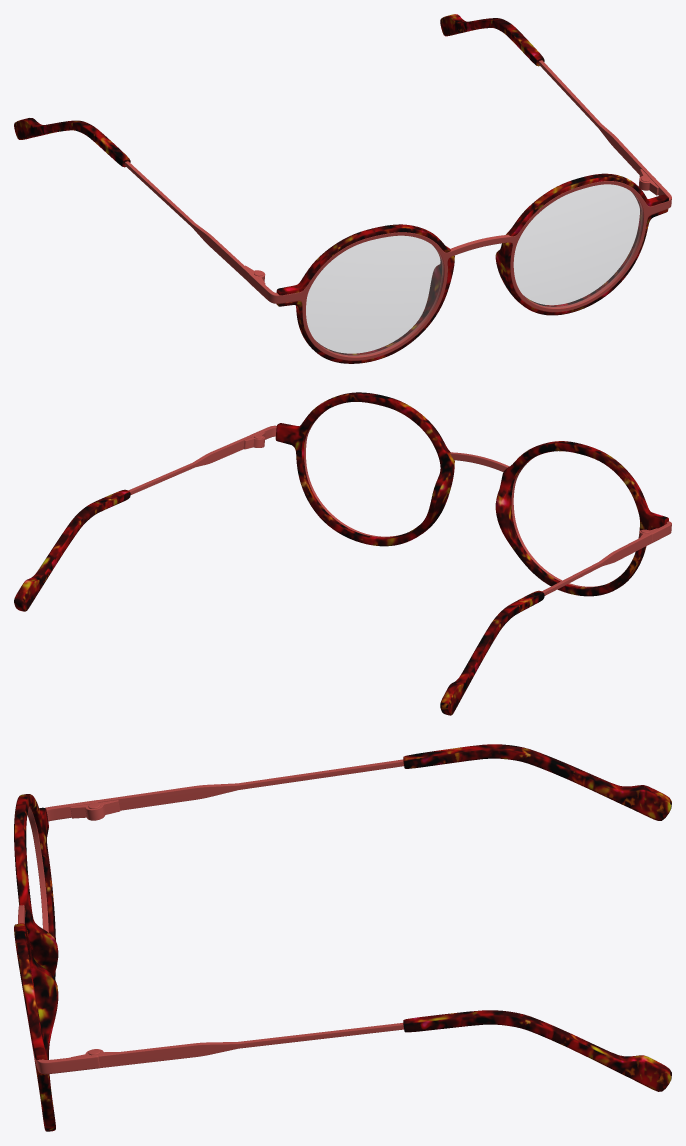
3 renders of one model, top to bottom at view 1: azimuth 30°, elevation 25°; view 2: azimuth 150°, elevation 25°; view 3: azimuth 270°, elevation 25°, orthographic. The views are drawn at different scales.
Visible parts, largest first — view 1: lens1, frame, legs; view 2: frame, legs; view 3: legs, frame.
Boxes of the visible parts, <box> form: lens1: <box>306,184,642,356</box>; frame: <box>248,173,671,363</box>; legs: <box>14,14,658,284</box>; frame: <box>250,392,671,596</box>; legs: <box>14,432,657,715</box>; legs: <box>70,744,671,1091</box>; frame: <box>14,794,99,1131</box>.
Size of the model in its own units: 0.1517 by 0.0469 by 0.1525.
Materials: 3 (3 with a texture image).
